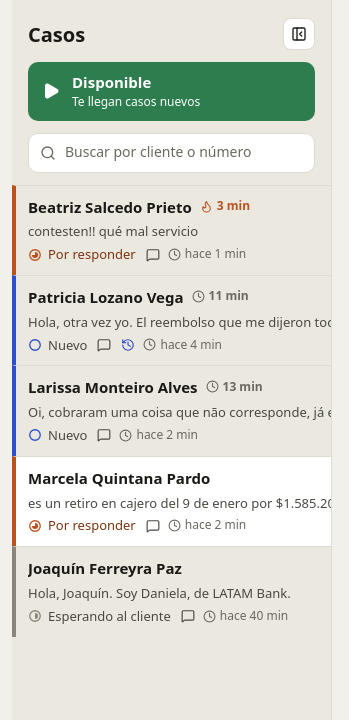
Test: CaseListPanel › pauses from the availability pill, which then becomes the orange paused control
Expected: the text "No te llegan casos nuevos" is not shown
Click the button "Disponible Te llegan casos nuevos".
click(172, 91)  # box [28, 62, 315, 120]
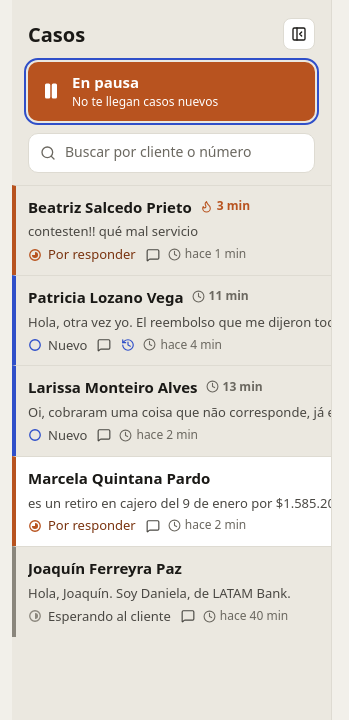
Expected: the button with aria-label "En pausa. Volver a disponible" reads "En pausa No te llegan casos nuevos", [28, 62, 315, 120]
Expected: the button "Disponible" is gone
